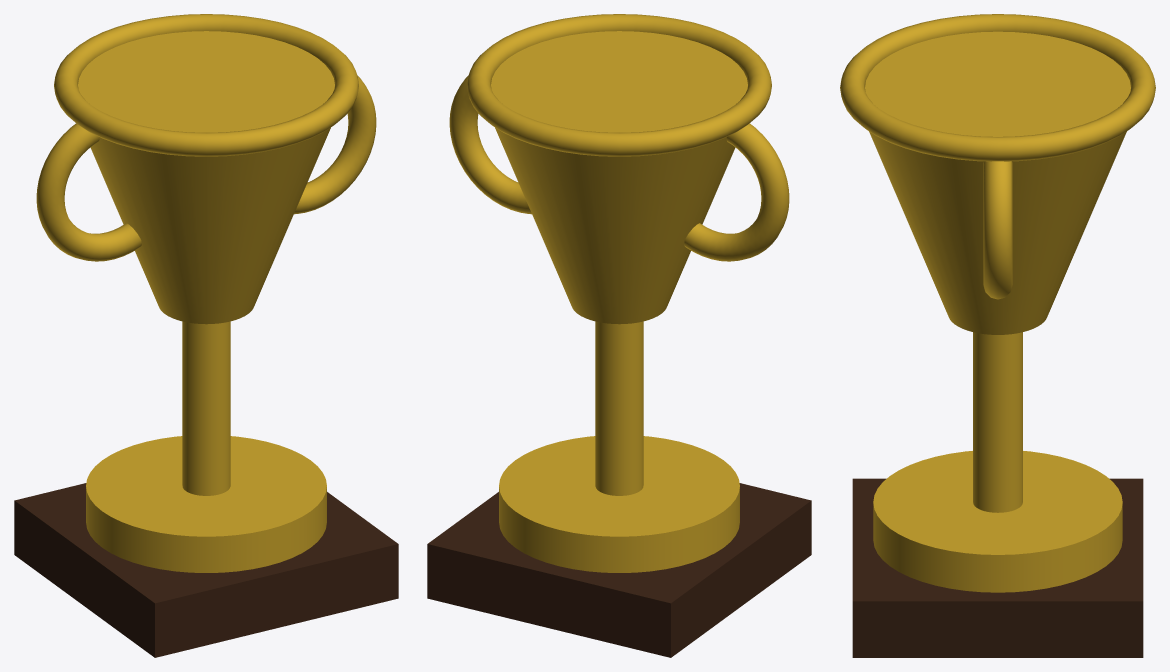
File: Trophy.fbx
3 views of the same model, side by side, from view 1: azimuth 30°, elevation 25°; view 2: azimuth 150°, elevation 25°; view 3: azimuth 270°, elevation 25° (orthographic). The views are drawn at different scales.
Parts seen in each view (by area): view 1: Trophy.005; view 2: Trophy.005; view 3: Trophy.005.
Boxes of the visible parts, x1,y1,x2,y2 form: Trophy.005: (14, 14, 398, 657); Trophy.005: (427, 14, 811, 657); Trophy.005: (840, 14, 1155, 657).
Bounding box in the file's own units: 9.66 × 13.8 × 7.6.
